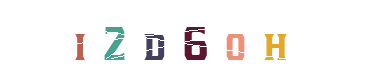2: (78, 0, 158, 80)
6: (150, 0, 230, 80)
D: (138, 0, 218, 80)
H: (235, 0, 315, 80)
I: (63, 0, 143, 80)
O: (190, 0, 270, 80)
